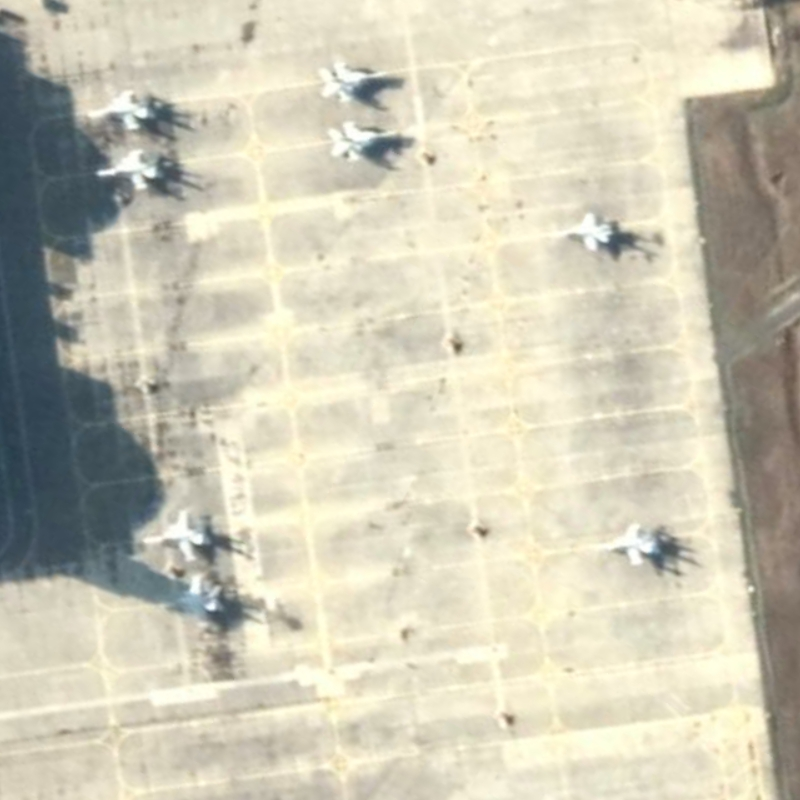A16: (139, 569, 235, 632), (70, 78, 162, 140), (71, 144, 171, 200), (307, 52, 403, 108), (537, 205, 628, 261), (322, 114, 411, 171), (587, 515, 670, 573), (136, 507, 219, 565)
